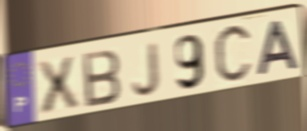9: (173, 33, 206, 92)
A: (256, 17, 302, 79)
B: (80, 47, 123, 110)
C: (212, 20, 254, 89)
J: (130, 39, 161, 98)
X: (34, 54, 82, 118)
